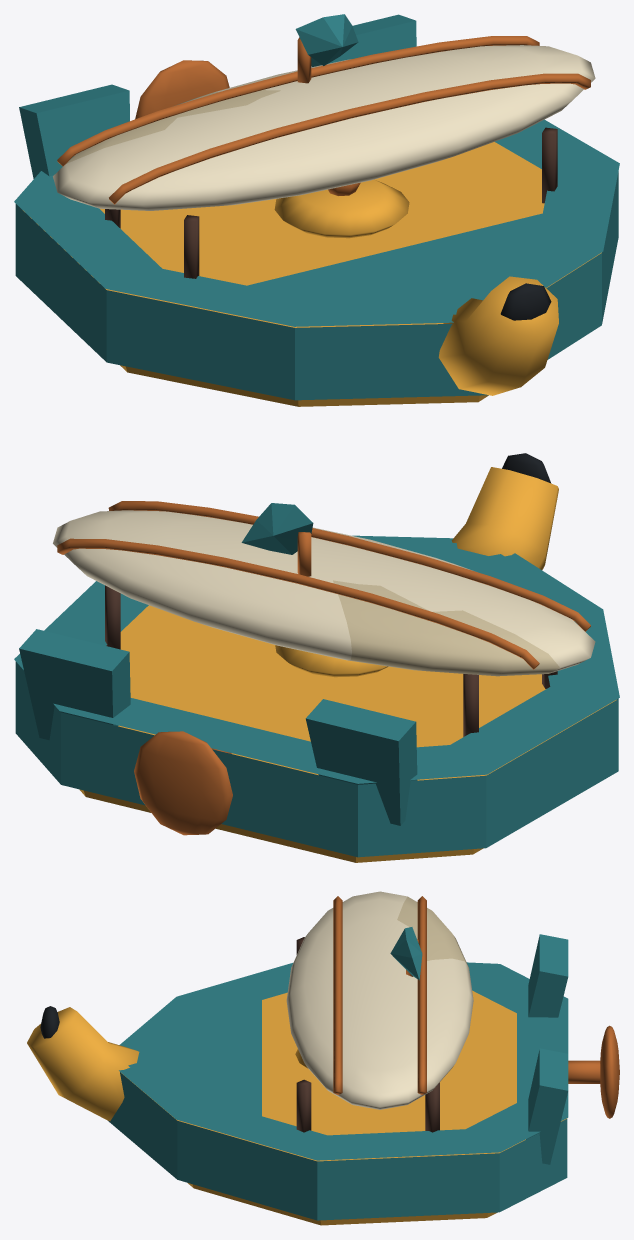
The model's file is copperskiff.glb.
3 views of the same model, one above another, from view 1: azimuth 30°, elevation 25°; view 2: azimuth 150°, elevation 25°; view 3: azimuth 270°, elevation 25° (orthographic). The views are drawn at different scales.
Visible parts, largest first — view 1: ME_20261020_copperskiff_canvas_lens_0, ME_20261020_copperskiff_team_coaming_wall, ME_20261020_copperskiff_copper_boat_belly, ME_20261020_copperskiff_team_top_coaming, ME_20261020_copperskiff_team_foredeck, ME_20261020_copperskiff_curved_bow_spout, ME_20261020_copperskiff_stern_board_-1, ME_20261020_copperskiff_kettle_lid, ME_20261020_copperskiff_copper_canvas_binding_0_0, ME_20261020_copperskiff_copper_canvas_binding_0_1, ME_20261020_copperskiff_pusher_disc, ME_20261020_copperskiff_stern_board_1 (+5 smaller); view 2: ME_20261020_copperskiff_canvas_lens_0, ME_20261020_copperskiff_team_coaming_wall, ME_20261020_copperskiff_copper_boat_belly, ME_20261020_copperskiff_team_top_coaming, ME_20261020_copperskiff_stern_board_-1, ME_20261020_copperskiff_stern_board_1, ME_20261020_copperskiff_pusher_disc, ME_20261020_copperskiff_curved_bow_spout, ME_20261020_copperskiff_copper_canvas_binding_0_1, ME_20261020_copperskiff_copper_canvas_binding_0_0, ME_20261020_copperskiff_team_foredeck, ME_20261020_copperskiff_team_leaf_pennant (+5 smaller); view 3: ME_20261020_copperskiff_canvas_lens_0, ME_20261020_copperskiff_team_coaming_wall, ME_20261020_copperskiff_copper_boat_belly, ME_20261020_copperskiff_team_top_coaming, ME_20261020_copperskiff_team_foredeck, ME_20261020_copperskiff_curved_bow_spout, ME_20261020_copperskiff_stern_board_1, ME_20261020_copperskiff_stern_board_-1, ME_20261020_copperskiff_copper_canvas_binding_0_0, ME_20261020_copperskiff_copper_canvas_binding_0_1, ME_20261020_copperskiff_pusher_disc, ME_20261020_copperskiff_team_leaf_pennant (+4 smaller).
Boxes of the visible parts, x1=… form: ME_20261020_copperskiff_canvas_lens_0: x1=53, y1=45, x2=595, y2=210; ME_20261020_copperskiff_team_coaming_wall: x1=15, y1=171, x2=618, y2=400; ME_20261020_copperskiff_copper_boat_belly: x1=23, y1=142, x2=601, y2=406; ME_20261020_copperskiff_team_top_coaming: x1=14, y1=119, x2=619, y2=326; ME_20261020_copperskiff_team_foredeck: x1=228, y1=208, x2=591, y2=319; ME_20261020_copperskiff_curved_bow_spout: x1=438, y1=276, x2=558, y2=395; ME_20261020_copperskiff_stern_board_-1: x1=19, y1=84, x2=129, y2=178; ME_20261020_copperskiff_kettle_lid: x1=274, y1=179, x2=409, y2=238; ME_20261020_copperskiff_copper_canvas_binding_0_0: x1=109, y1=73, x2=590, y2=204; ME_20261020_copperskiff_copper_canvas_binding_0_1: x1=57, y1=36, x2=539, y2=166; ME_20261020_copperskiff_pusher_disc: x1=135, y1=60, x2=229, y2=119; ME_20261020_copperskiff_stern_board_1: x1=311, y1=14, x2=416, y2=66; ME_20261020_copperskiff_canvas_lens_0: x1=53, y1=510, x2=595, y2=676; ME_20261020_copperskiff_team_coaming_wall: x1=15, y1=661, x2=618, y2=857; ME_20261020_copperskiff_copper_boat_belly: x1=79, y1=605, x2=616, y2=862; ME_20261020_copperskiff_team_top_coaming: x1=14, y1=535, x2=619, y2=783; ME_20261020_copperskiff_stern_board_-1: x1=305, y1=699, x2=417, y2=825; ME_20261020_copperskiff_stern_board_1: x1=19, y1=629, x2=130, y2=740; ME_20261020_copperskiff_pusher_disc: x1=134, y1=731, x2=232, y2=835; ME_20261020_copperskiff_curved_bow_spout: x1=451, y1=467, x2=558, y2=569; ME_20261020_copperskiff_copper_canvas_binding_0_1: x1=57, y1=538, x2=539, y2=669; ME_20261020_copperskiff_copper_canvas_binding_0_0: x1=108, y1=501, x2=590, y2=631; ME_20261020_copperskiff_team_foredeck: x1=375, y1=540, x2=591, y2=624; ME_20261020_copperskiff_team_leaf_pennant: x1=241, y1=503, x2=313, y2=554; ME_20261020_copperskiff_canvas_lens_0: x1=286, y1=891, x2=473, y2=1109; ME_20261020_copperskiff_team_coaming_wall: x1=108, y1=1072, x2=567, y2=1220; ME_20261020_copperskiff_copper_boat_belly: x1=132, y1=990, x2=566, y2=1225; ME_20261020_copperskiff_team_top_coaming: x1=119, y1=962, x2=568, y2=1160; ME_20261020_copperskiff_team_foredeck: x1=128, y1=989, x2=261, y2=1123; ME_20261020_copperskiff_curved_bow_spout: x1=27, y1=1007, x2=139, y2=1121; ME_20261020_copperskiff_stern_board_1: x1=526, y1=1048, x2=568, y2=1164; ME_20261020_copperskiff_stern_board_-1: x1=528, y1=934, x2=568, y2=1017; ME_20261020_copperskiff_copper_canvas_binding_0_0: x1=333, y1=896, x2=342, y2=1094; ME_20261020_copperskiff_copper_canvas_binding_0_1: x1=417, y1=896, x2=426, y2=1094; ME_20261020_copperskiff_pusher_disc: x1=600, y1=1025, x2=619, y2=1118; ME_20261020_copperskiff_team_leaf_pennant: x1=390, y1=927, x2=422, y2=980.
Size of the model in its own units: 1.72 by 0.8846 by 2.07.
